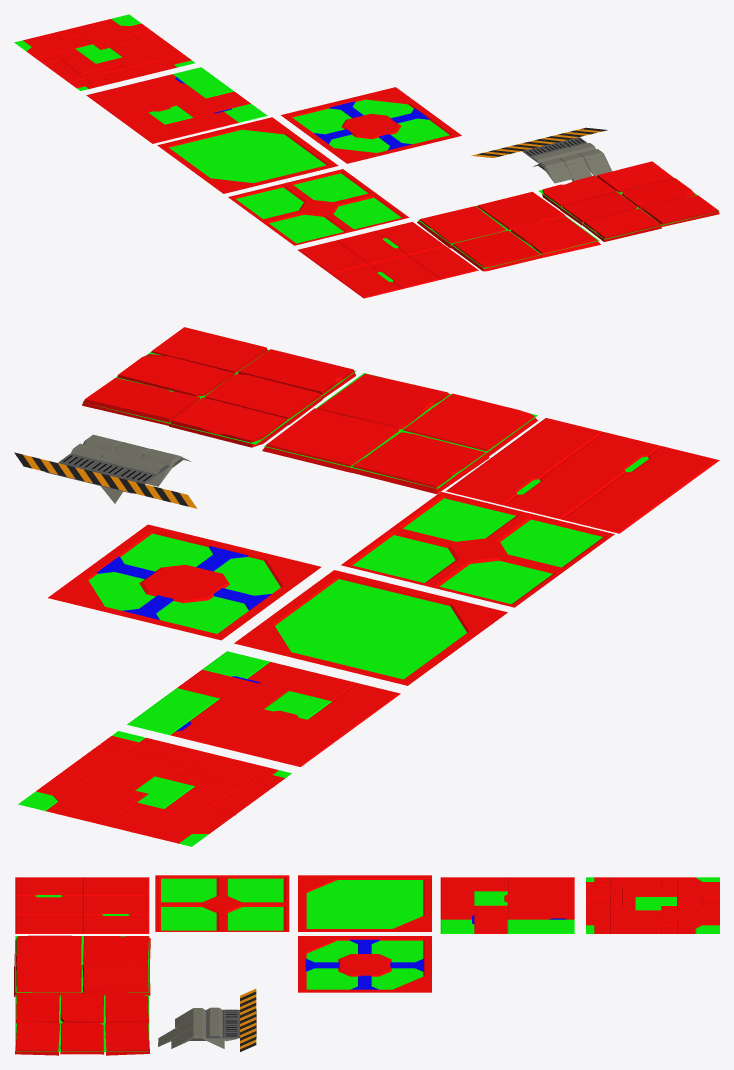
File: LowPolySciFiTextures_high.fbx
3 views of the same model, one above another, from view 1: azimuth 30°, elevation 25°; view 2: azimuth 150°, elevation 25°; view 3: azimuth 270°, elevation 25° (orthographic). The views are drawn at different scales.
Visible parts, largest first — view 1: PavedFloorB_high, PavedFloorA_high, RecessA_high, TiledPanelsA_high, TiledPanelsB_high, RecessB_high, RecessC_high, TiledPanelsC_high, SciFiFloorTrim_high; view 2: PavedFloorB_high, PavedFloorA_high, RecessC_high, RecessB_high, TiledPanelsA_high, TiledPanelsB_high, TiledPanelsC_high, RecessA_high, SciFiFloorTrim_high; view 3: PavedFloorA_high, PavedFloorB_high, TiledPanelsB_high, RecessB_high, TiledPanelsC_high, TiledPanelsA_high, RecessA_high, RecessC_high, SciFiFloorTrim_high.
Boxes of the visible parts, x1,y1,x2,y2 form: PavedFloorB_high: (417, 191, 600, 271); PavedFloorA_high: (539, 161, 719, 241); RecessA_high: (157, 117, 338, 193); TiledPanelsA_high: (14, 14, 194, 90); TiledPanelsB_high: (86, 67, 267, 143); RecessB_high: (228, 169, 408, 245); RecessC_high: (281, 87, 461, 163); TiledPanelsC_high: (298, 222, 478, 298); SciFiFloorTrim_high: (471, 127, 611, 183); PavedFloorB_high: (262, 373, 537, 494); PavedFloorA_high: (82, 327, 355, 447); RecessC_high: (48, 524, 321, 640); RecessB_high: (341, 492, 614, 607); TiledPanelsA_high: (18, 731, 291, 846); TiledPanelsB_high: (127, 651, 400, 766); TiledPanelsC_high: (446, 418, 719, 533); RecessA_high: (234, 570, 507, 685); SciFiFloorTrim_high: (14, 434, 197, 508); PavedFloorA_high: (15, 994, 149, 1055); PavedFloorB_high: (14, 935, 150, 996); TiledPanelsB_high: (440, 877, 574, 933); RecessB_high: (155, 875, 289, 931); TiledPanelsC_high: (15, 877, 149, 933); TiledPanelsA_high: (586, 877, 719, 933); RecessA_high: (298, 875, 431, 931); RecessC_high: (298, 936, 431, 992); SciFiFloorTrim_high: (158, 989, 256, 1051).
Size of the model in its own units: 2475 by 144 by 4215.
